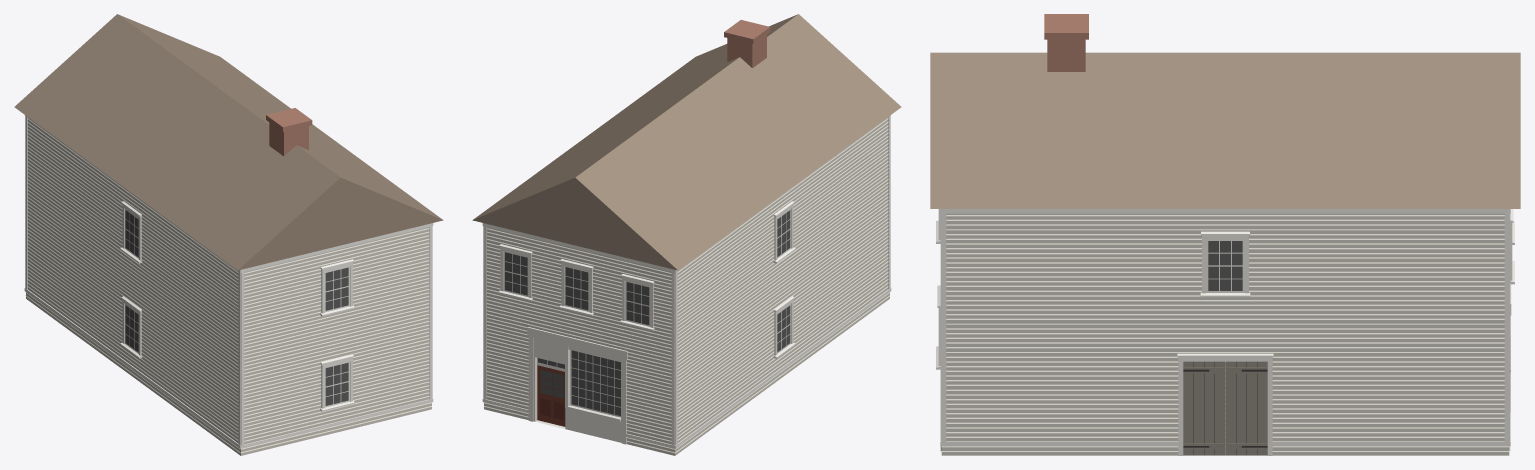
File: recon_1835_core_c3_057__inferred_1835.glb
The picture shows the model from 3 angles, left to right: view 1: azimuth 30°, elevation 25°; view 2: azimuth 150°, elevation 25°; view 3: azimuth 270°, elevation 25°; orthographic projection. The views are drawn at different scales.
Visible parts, largest first — view 1: recon_1835_core_c3_057__inferred_1835; view 2: recon_1835_core_c3_057__inferred_1835; view 3: recon_1835_core_c3_057__inferred_1835.
Part boxes in pixels (x1,y1,x2,y2): recon_1835_core_c3_057__inferred_1835: (14,14,443,455); recon_1835_core_c3_057__inferred_1835: (472,14,901,455); recon_1835_core_c3_057__inferred_1835: (930,14,1520,455).
Bounding box in the file's own units: 6.89 × 8.96 × 12.94.
